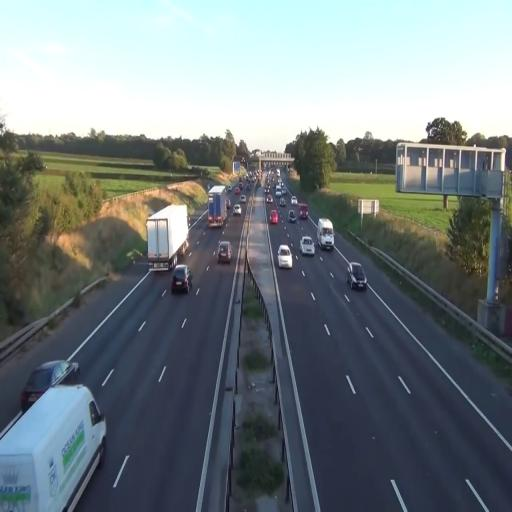vehicle: (1, 381, 107, 509), (146, 204, 190, 272), (147, 204, 189, 272), (207, 186, 227, 228), (171, 265, 191, 295), (317, 217, 334, 250), (348, 261, 366, 290), (277, 244, 293, 270), (216, 239, 232, 264), (300, 236, 315, 256), (268, 204, 280, 226), (288, 204, 298, 223)
